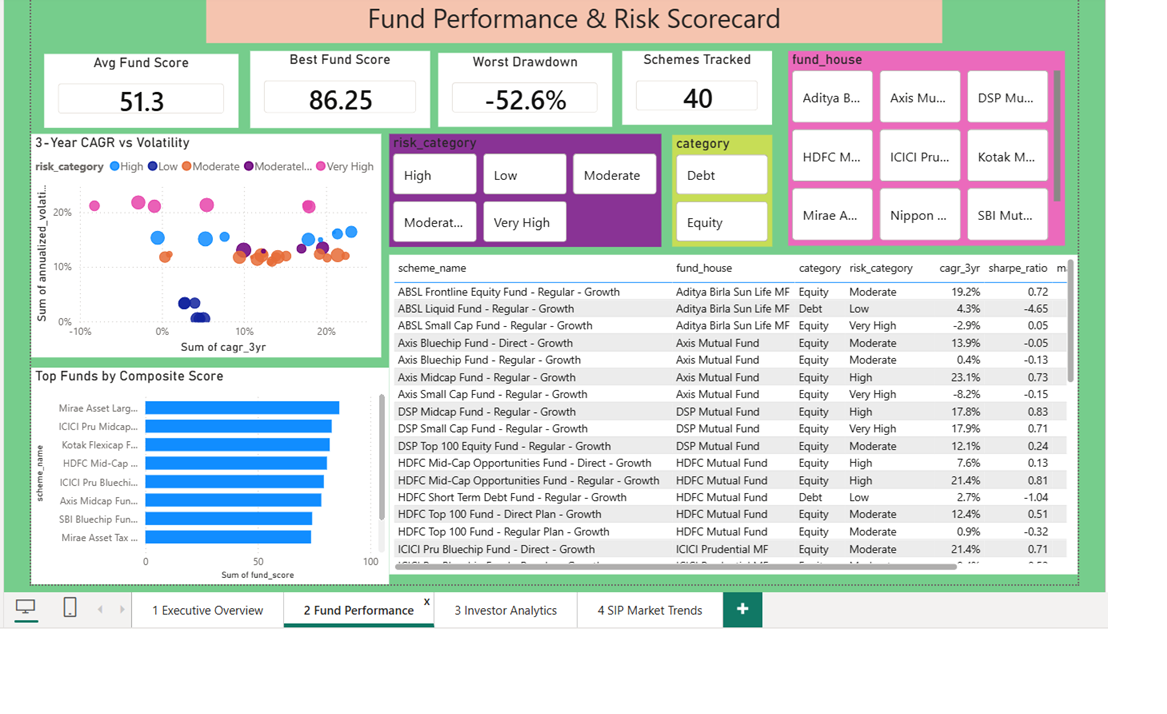

The page's visual inventory and layout, read from the dashboard file:
{"tool":"powerbi","page":{"name":"2 Fund Performance","canvas":[1280,720],"ordinal":1},"visuals":[{"type":"textbox","box":[214,0,900,57.5],"z":0},{"type":"cardVisual","title":"Avg Fund Score","fields":{"Data":["Measures_Table.Average Fund Score"]},"box":[15.9,70.9,237.2,90.5],"z":1000},{"type":"cardVisual","title":"Worst Drawdown","fields":{"Data":["Measures_Table.Worst Drawdown"]},"box":[497.7,69.7,212.8,90.5],"z":2000},{"type":"cardVisual","title":"Schemes Tracked","fields":{"Data":["Measures_Table.Scheme Count"]},"box":[722.7,67.3,183.4,90.5],"z":3000},{"type":"scatterChart","title":"3-Year CAGR vs Volatility","fields":{"X":["Sum(rpt_fund_scorecard.cagr_3yr)"],"Y":["Sum(rpt_fund_scorecard.annualized_volatility)"],"Size":["Sum(rpt_fund_scorecard.aum_crore)"],"Series":["rpt_fund_scorecard.risk_category"],"Category":["rpt_fund_scorecard.scheme_name"]},"box":[0,169.3,428,273.3],"z":4000},{"type":"clusteredBarChart","title":"Top Funds by Composite Score","fields":{"Category":["rpt_fund_scorecard.scheme_name"],"Y":["Sum(rpt_fund_scorecard.fund_score)"]},"box":[0,454.9,437.8,265.4],"z":5000},{"type":"tableEx","fields":{"Values":["rpt_fund_scorecard.scheme_name","rpt_fund_scorecard.fund_house","rpt_fund_scorecard.category","rpt_fund_scorecard.risk_category","rpt_fund_scorecard.cagr_3yr","rpt_fund_scorecard.sharpe_ratio","rpt_fund_scorecard.max_drawdown","rpt_fund_scorecard.fund_score"]},"box":[437.8,316.7,842.5,391.3],"z":6000},{"type":"advancedSlicerVisual","fields":{"Values":["dim_fund.fund_house"]},"box":[925.7,67.3,338.7,238.5],"z":7000},{"type":"advancedSlicerVisual","fields":{"Values":["dim_fund.category"]},"box":[783.8,170,122.3,137],"z":8000},{"type":"advancedSlicerVisual","fields":{"Values":["rpt_fund_scorecard.risk_category"]},"box":[437.8,168.8,332.6,138.2],"z":9000},{"type":"cardVisual","title":"Best Fund Score","fields":{"Data":["Measures_Table.Best Fund Score"]},"box":[267.8,67.3,220.1,94.2],"z":10000}]}

Visuals, with their boxes on the page's 1280x720 design canvas (x1, y1, x2, y2). These are canvas units, not pixel positions in the 1167x714 screenshot, which may show the page scaled, cropped or inside an application window:
textbox: Rect(214, 0, 1114, 58)
"Avg Fund Score" cardVisual: Rect(16, 71, 253, 161)
"Worst Drawdown" cardVisual: Rect(498, 70, 710, 160)
"Schemes Tracked" cardVisual: Rect(723, 67, 906, 158)
"3-Year CAGR vs Volatility" scatterChart: Rect(0, 169, 428, 443)
"Top Funds by Composite Score" clusteredBarChart: Rect(0, 455, 438, 720)
tableEx - rpt_fund_scorecard.scheme_name x rpt_fund_scorecard.fund_house: Rect(438, 317, 1280, 708)
advancedSlicerVisual - dim_fund.fund_house: Rect(926, 67, 1264, 306)
advancedSlicerVisual - dim_fund.category: Rect(784, 170, 906, 307)
advancedSlicerVisual - rpt_fund_scorecard.risk_category: Rect(438, 169, 770, 307)
"Best Fund Score" cardVisual: Rect(268, 67, 488, 162)
